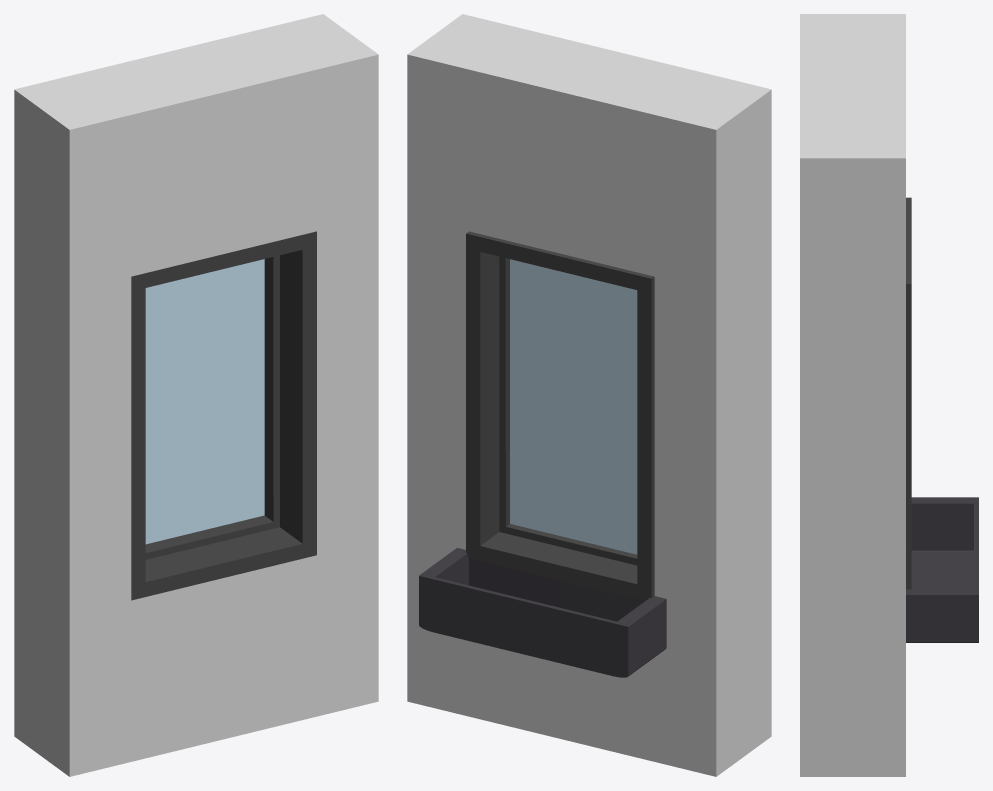
Rendered from SM_EXTWindowWall.glb.
The picture shows the model from 3 angles, left to right: view 1: azimuth 30°, elevation 25°; view 2: azimuth 150°, elevation 25°; view 3: azimuth 270°, elevation 25°; orthographic projection. The views are drawn at different scales.
Parts seen in each view (by area): view 1: Wall, GlassPane, InnerWindowFrame; view 2: Wall, GlassPane, InnerWindowFrame, PlanterBox; view 3: Wall, PlanterBox, InnerWindowFrame.
Boxes of the visible parts, x1,y1,x2,y2 form: Wall: [14, 14, 378, 776]; GlassPane: [145, 259, 264, 544]; InnerWindowFrame: [131, 231, 316, 600]; Wall: [407, 14, 771, 776]; GlassPane: [510, 259, 637, 554]; InnerWindowFrame: [466, 231, 654, 600]; PlanterBox: [419, 548, 666, 677]; Wall: [800, 14, 905, 776]; PlanterBox: [906, 497, 978, 642]; InnerWindowFrame: [906, 197, 911, 589].
Bounding box in the file's own units: 2 × 4 × 1.05.
